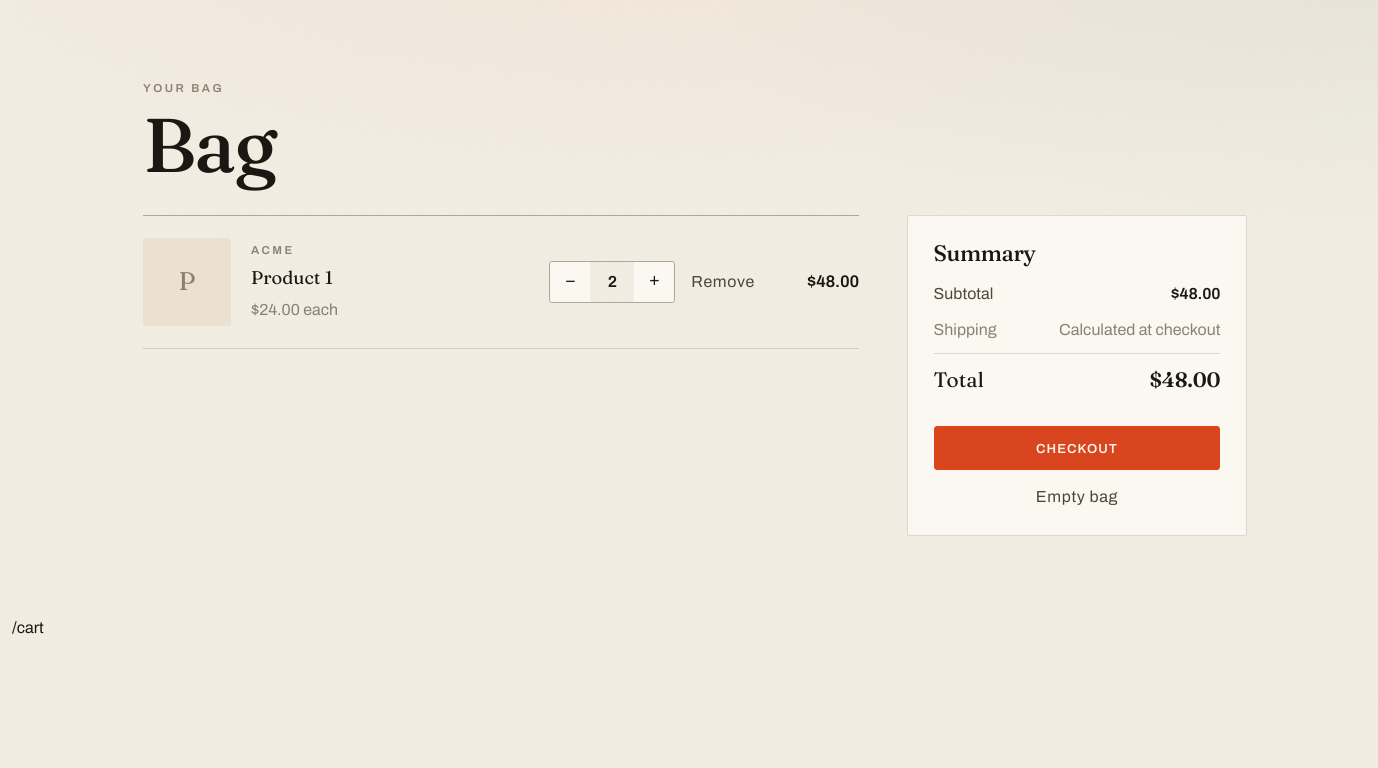
Test: CartPage › shows the server message when a change fails (not enough stock)
Step 1. Click the button named "Increase quantity" → (654, 282), box [634,262,674,302]
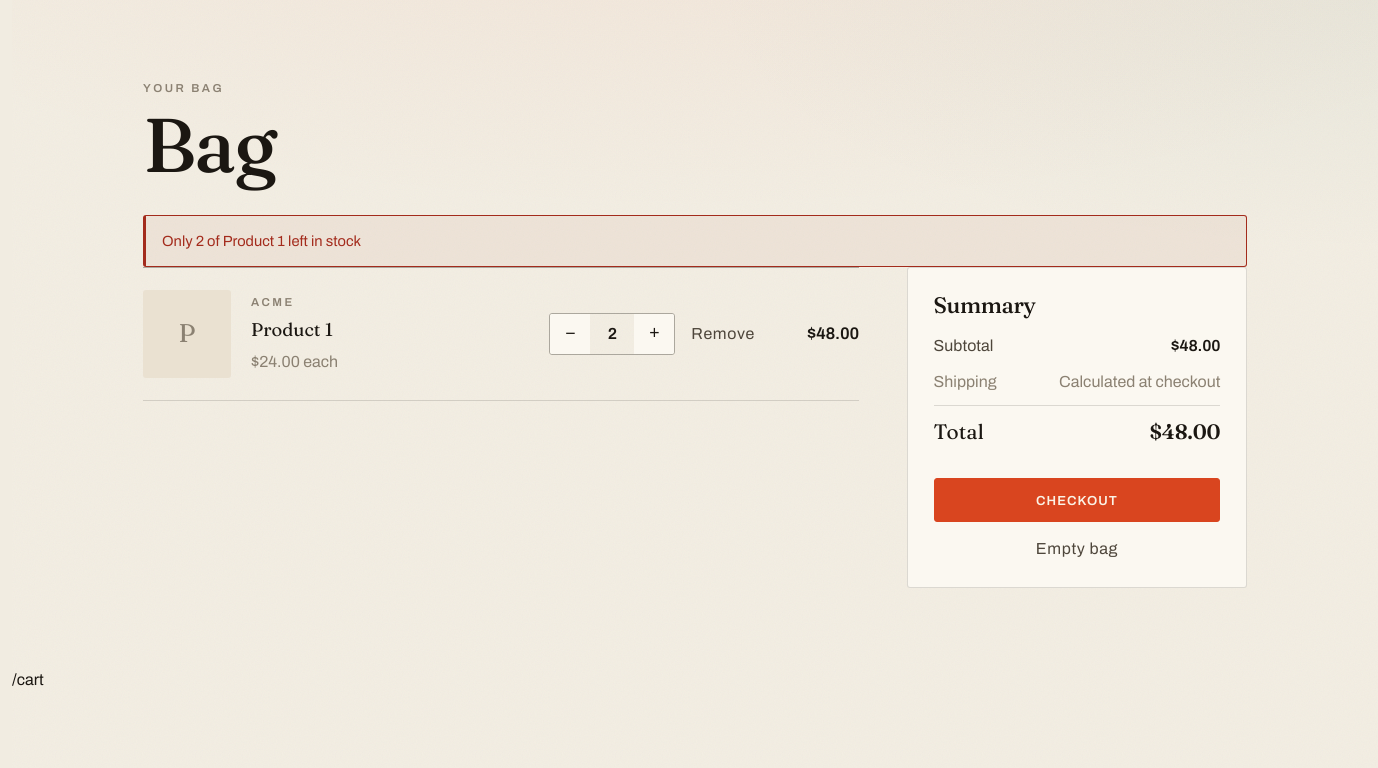
Check: the message reads "Only 2 of Product 1 left in stock", box [162,233,361,249]
